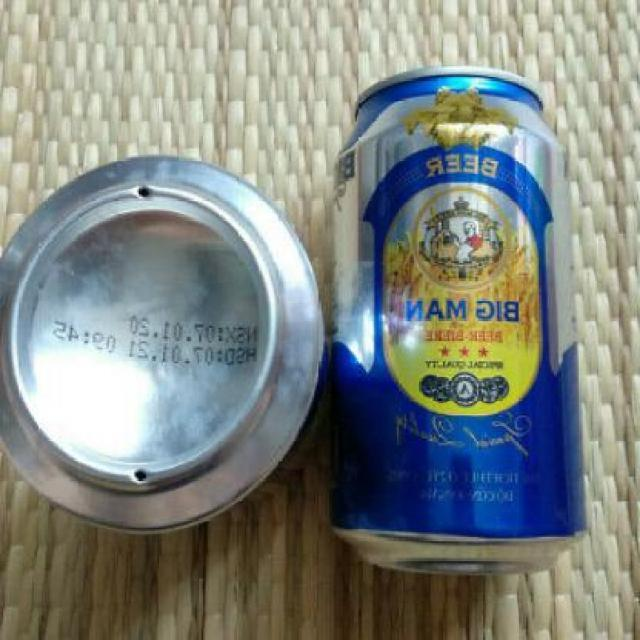can: (330, 58, 596, 591)
